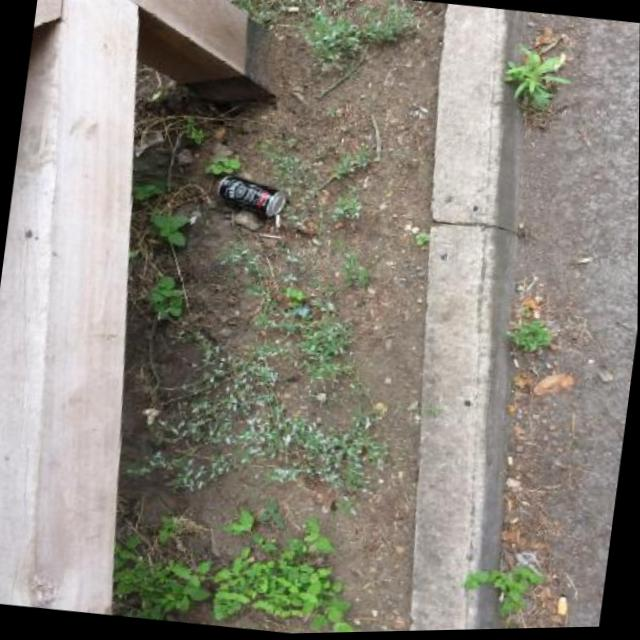metal: (214, 172, 289, 219)
